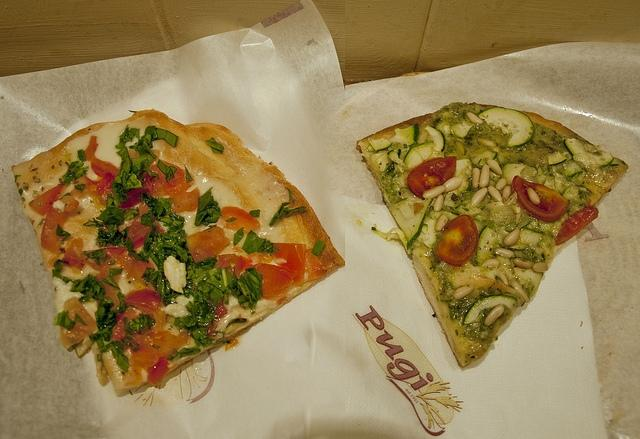cucumber: (476, 106, 536, 146), (462, 294, 518, 324), (406, 198, 434, 251), (564, 138, 614, 167), (510, 257, 544, 299), (404, 141, 434, 170), (476, 226, 498, 261), (452, 158, 473, 191), (562, 185, 587, 209), (394, 123, 420, 145), (425, 125, 446, 152), (502, 162, 526, 185), (520, 228, 542, 247), (374, 154, 394, 172), (368, 138, 392, 152), (562, 162, 582, 178), (546, 152, 568, 165), (387, 150, 403, 164)
tomato: (149, 159, 200, 213), (512, 175, 570, 221), (102, 247, 158, 294), (434, 214, 480, 266), (59, 297, 98, 352), (407, 156, 457, 197), (246, 264, 298, 299), (554, 206, 598, 245), (186, 226, 231, 263), (85, 136, 120, 182), (28, 182, 69, 216), (41, 205, 68, 255), (272, 243, 306, 282), (125, 201, 152, 250), (220, 206, 260, 234), (124, 288, 160, 316), (118, 184, 151, 210), (218, 254, 253, 278), (304, 249, 328, 281), (147, 357, 170, 385), (133, 344, 159, 368), (64, 248, 85, 271), (110, 313, 126, 342), (153, 339, 178, 357), (213, 298, 228, 322)
